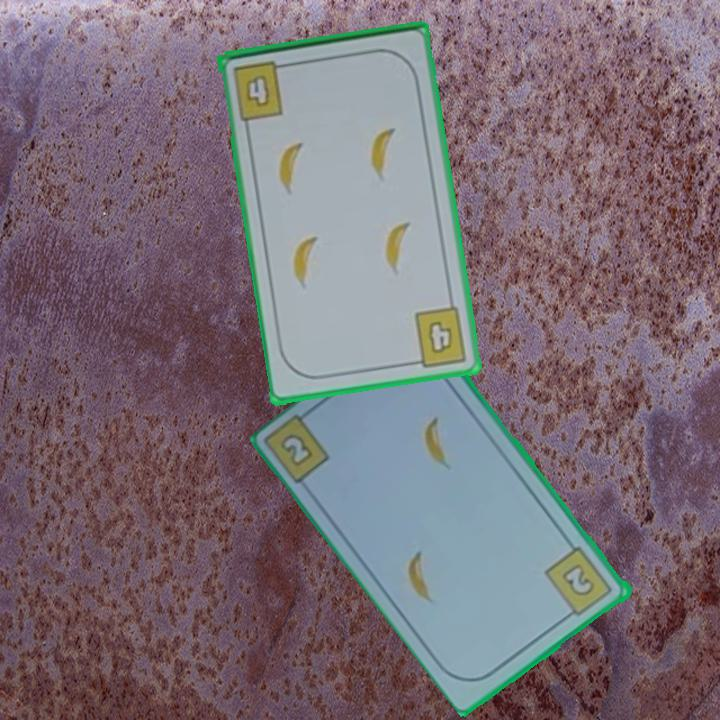2b: (542, 543, 616, 622), (277, 429, 317, 470)
4b: (406, 303, 471, 370), (229, 57, 292, 123)
